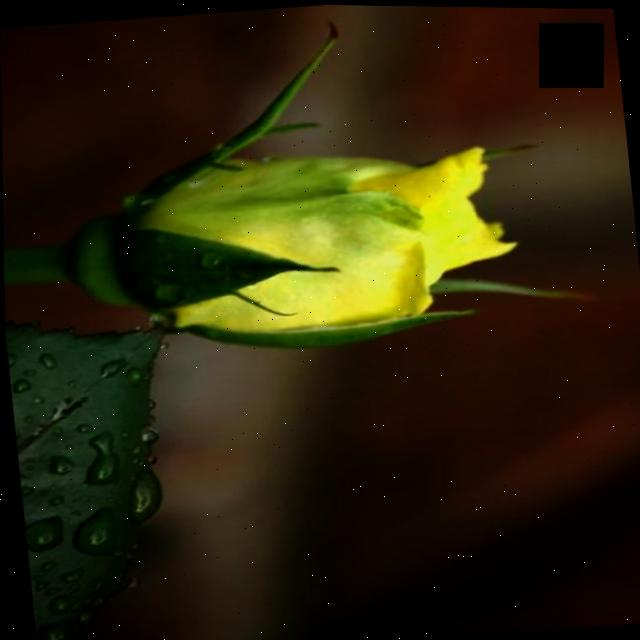rose: (46, 65, 557, 402)
